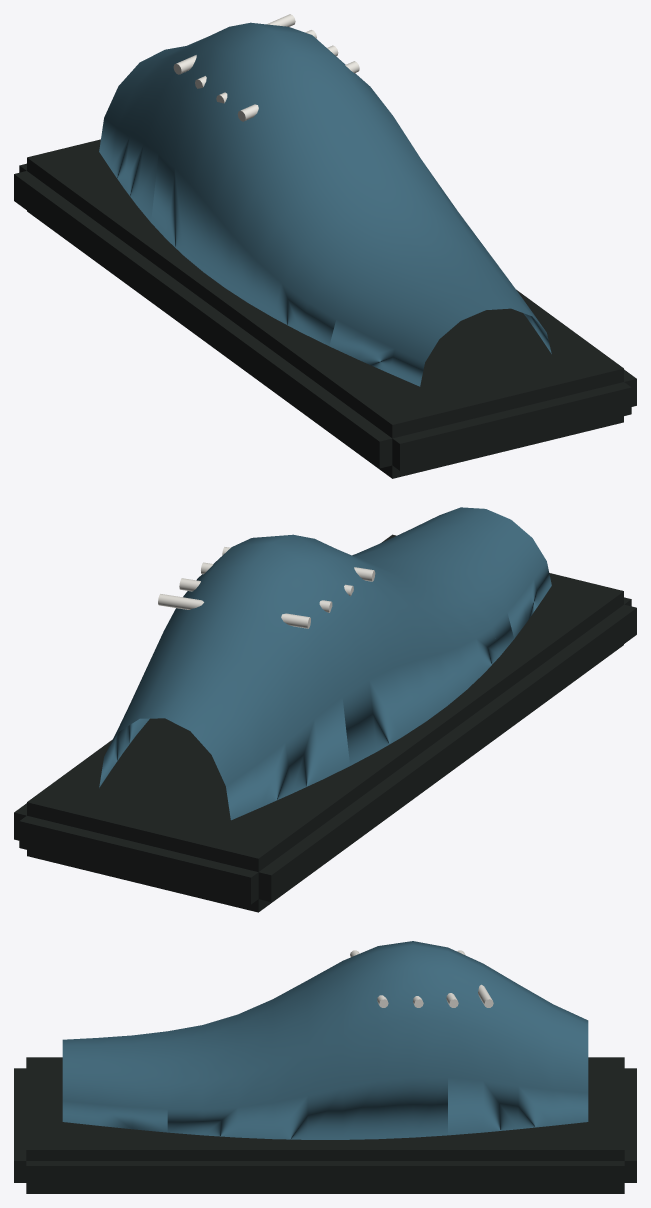
The model's file is sku_shoe.glb.
3 renders of one model, top to bottom at view 1: azimuth 30°, elevation 25°; view 2: azimuth 150°, elevation 25°; view 3: azimuth 270°, elevation 25°, orthographic. The views are drawn at different scales.
Parts seen in each view (by area): view 1: sku_shoe_Technical_blue, sku_shoe_Grip_rubber, sku_shoe_Warm_white_coating; view 2: sku_shoe_Technical_blue, sku_shoe_Grip_rubber, sku_shoe_Warm_white_coating; view 3: sku_shoe_Technical_blue, sku_shoe_Grip_rubber, sku_shoe_Warm_white_coating.
Boxes of the visible parts, bbox=[...] form: sku_shoe_Technical_blue: bbox=[99, 22, 551, 386]; sku_shoe_Grip_rubber: bbox=[14, 139, 636, 478]; sku_shoe_Warm_white_coating: bbox=[173, 14, 359, 121]; sku_shoe_Technical_blue: bbox=[99, 507, 551, 820]; sku_shoe_Grip_rubber: bbox=[14, 534, 636, 912]; sku_shoe_Warm_white_coating: bbox=[158, 547, 375, 628]; sku_shoe_Technical_blue: bbox=[62, 941, 588, 1139]; sku_shoe_Grip_rubber: bbox=[14, 1057, 636, 1193]; sku_shoe_Warm_white_coating: bbox=[350, 950, 493, 1007].
Bounding box in the file's own units: 0.125 × 0.1145 × 0.32.
